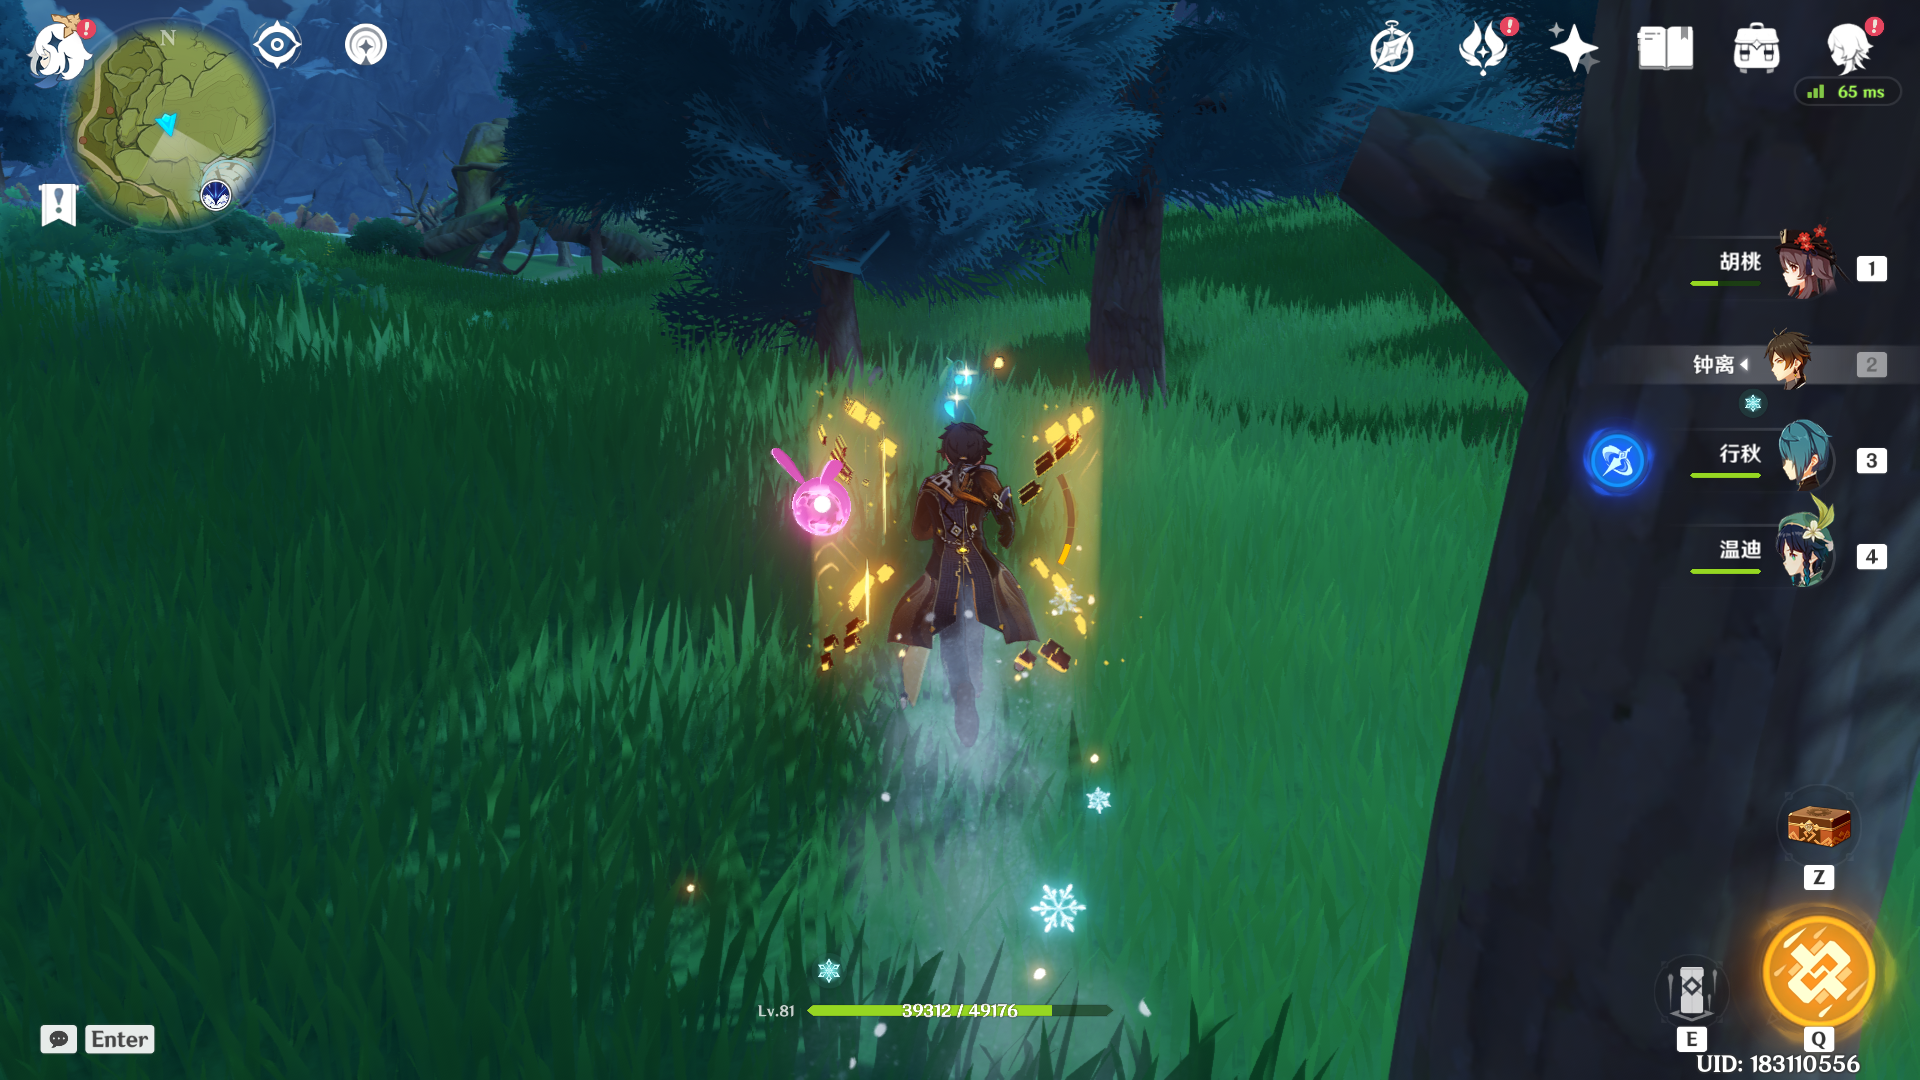character: (858, 396, 1095, 819)
